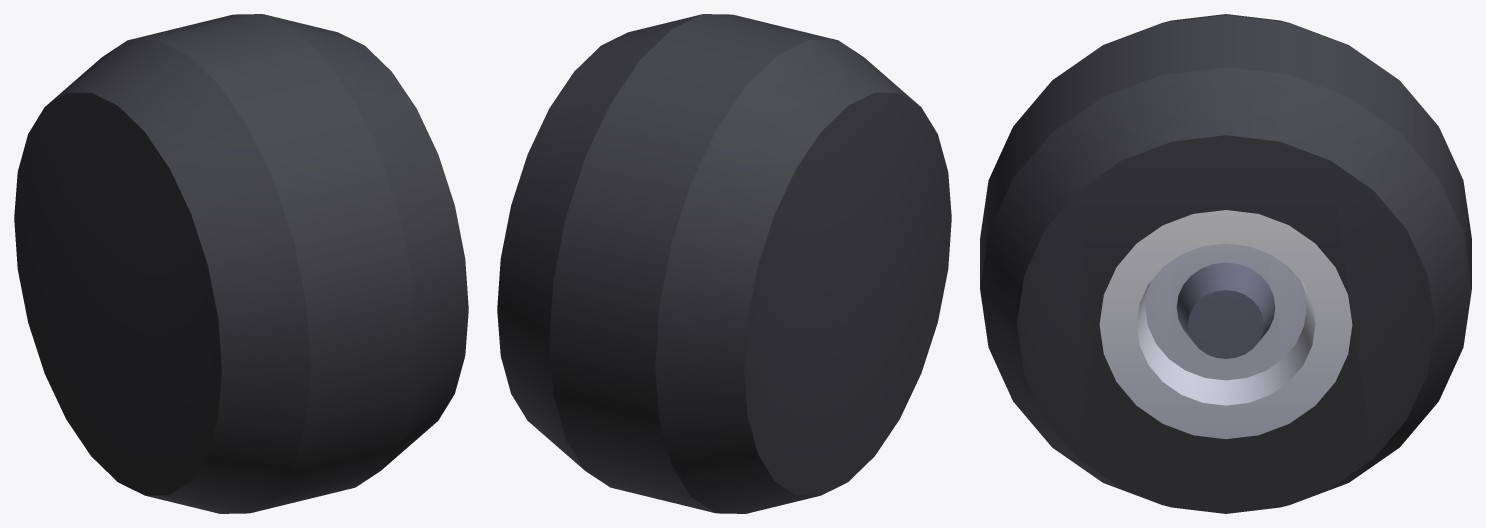
File: wheel-truck.glb
The picture shows the model from 3 angles, left to right: view 1: azimuth 30°, elevation 25°; view 2: azimuth 150°, elevation 25°; view 3: azimuth 270°, elevation 25°; orthographic projection.
Parts seen in each view (by area): view 1: wheel-truck; view 2: wheel-truck; view 3: wheel-truck.
Boxes of the visible parts, x1=… form: wheel-truck: x1=14, y1=14, x2=468, y2=513; wheel-truck: x1=497, y1=14, x2=951, y2=513; wheel-truck: x1=980, y1=14, x2=1471, y2=513.
Size of the model in its own units: 0.35 by 0.6 by 0.6.
1 material, 1 textured.
